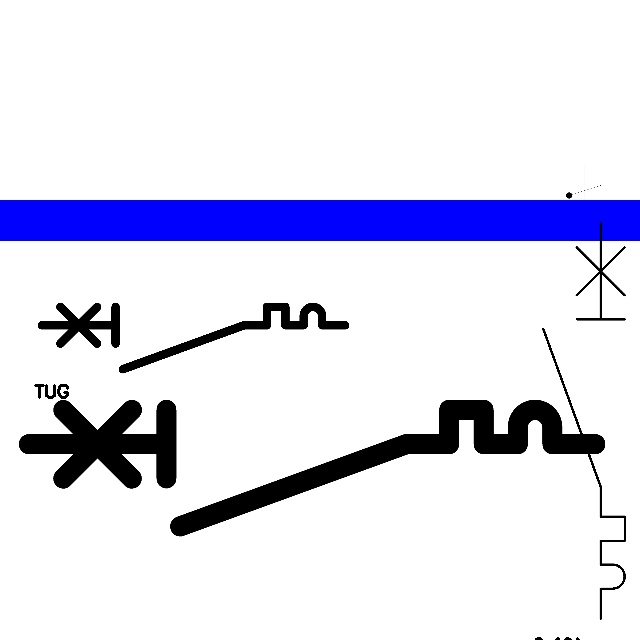interruptor_termomagnetico: (14, 395, 610, 541), (533, 213, 635, 629), (34, 299, 353, 377)
